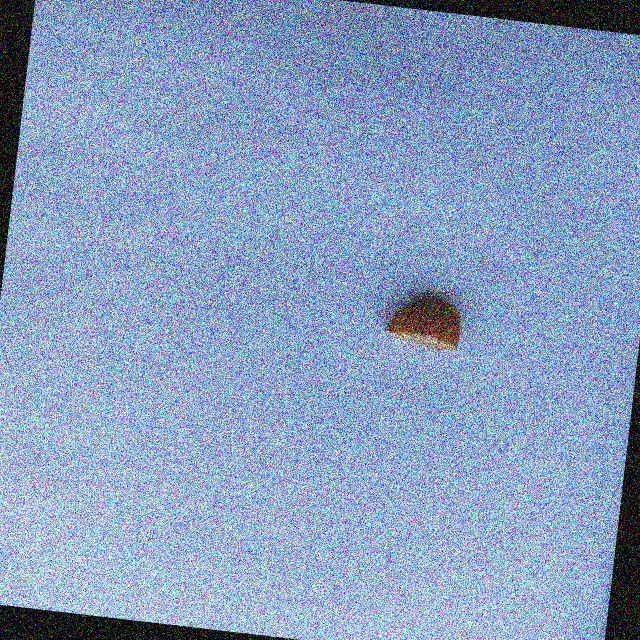grade4: (374, 285, 472, 358)
